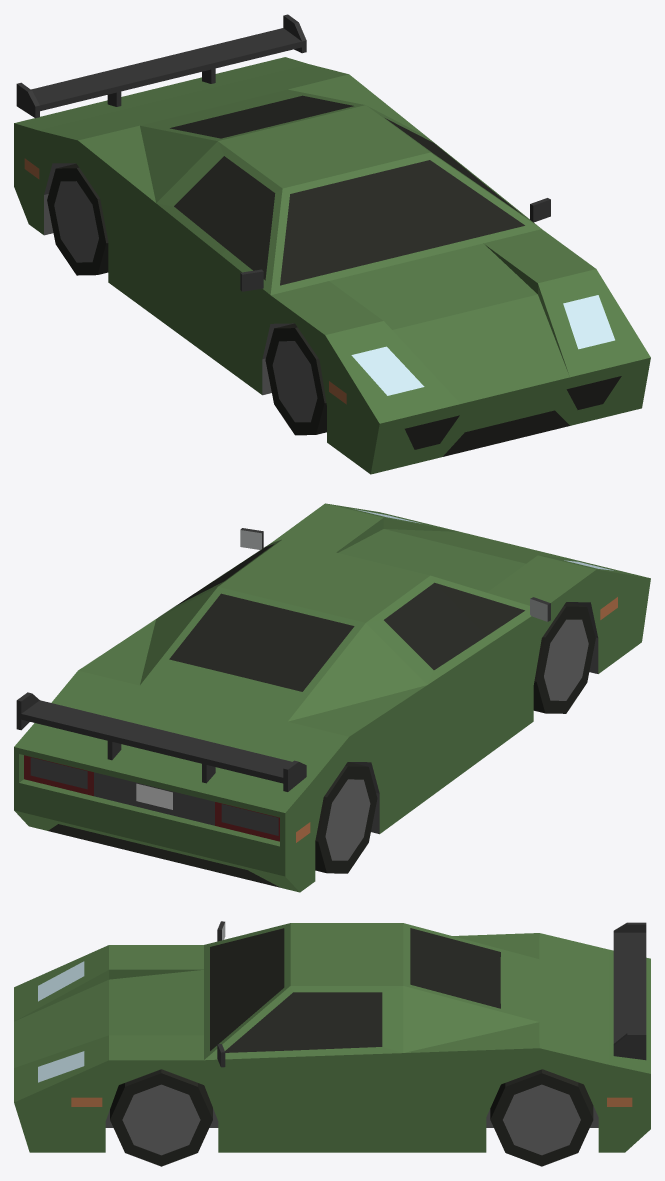
The model's file is Veh_Sports_Car_03_Green.obj.
3 views of the same model, one above another, from view 1: azimuth 30°, elevation 25°; view 2: azimuth 150°, elevation 25°; view 3: azimuth 270°, elevation 25° (orthographic). The views are drawn at different scales.
Bounding box in the file's own units: 1.25 × 0.6867 × 2.56.
